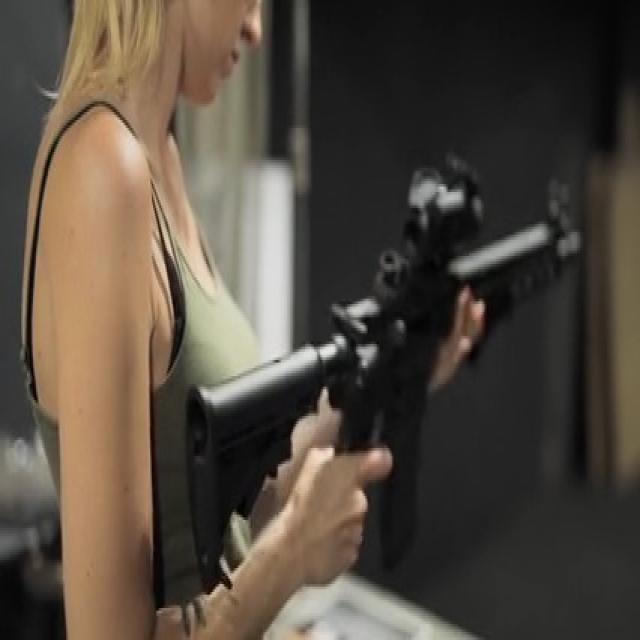Gun_Holder: (167, 152, 604, 604)
Person: (25, 0, 400, 640)
